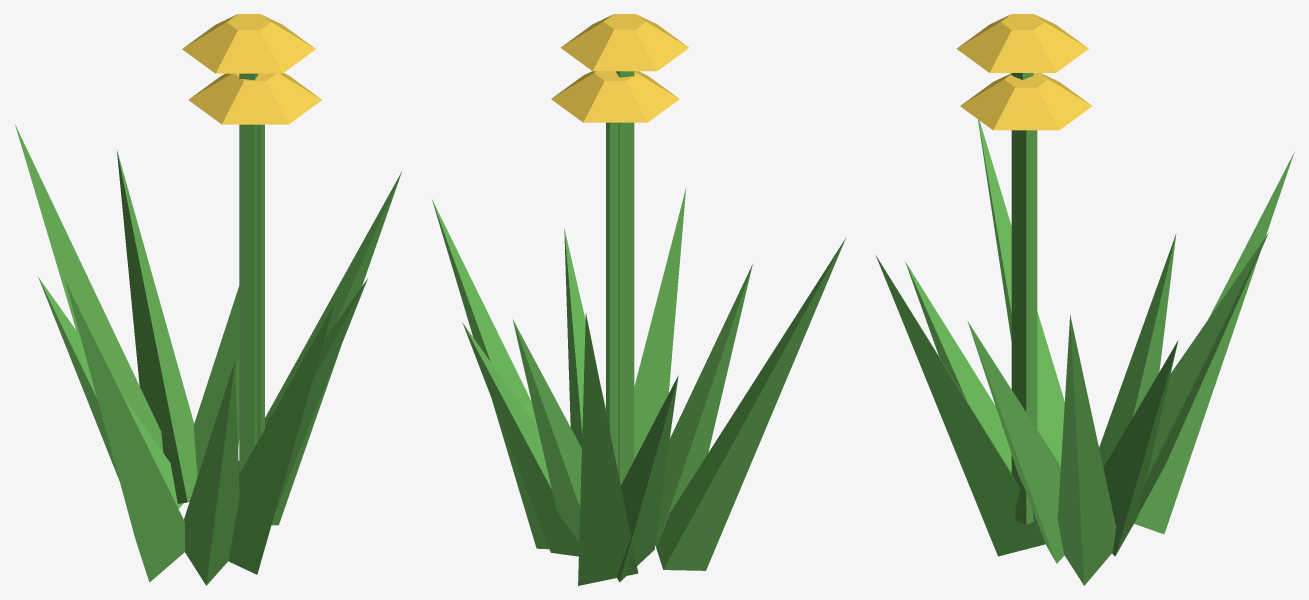
File: Grass_Tuft.glb
3 views of the same model, side by side, from view 1: azimuth 30°, elevation 25°; view 2: azimuth 150°, elevation 25°; view 3: azimuth 270°, elevation 25° (orthographic). The views are drawn at different scales.
Parts seen in each view (by area): view 1: Grass_Tuft_Mesh; view 2: Grass_Tuft_Mesh; view 3: Grass_Tuft_Mesh.
Part boxes in pixels (bbox=[...]): Grass_Tuft_Mesh: bbox=[15, 14, 401, 585]; Grass_Tuft_Mesh: bbox=[432, 14, 845, 585]; Grass_Tuft_Mesh: bbox=[875, 14, 1294, 585].
Size of the model in its own units: 0.596 by 0.8046 by 0.5696.
1 material, 1 textured.
